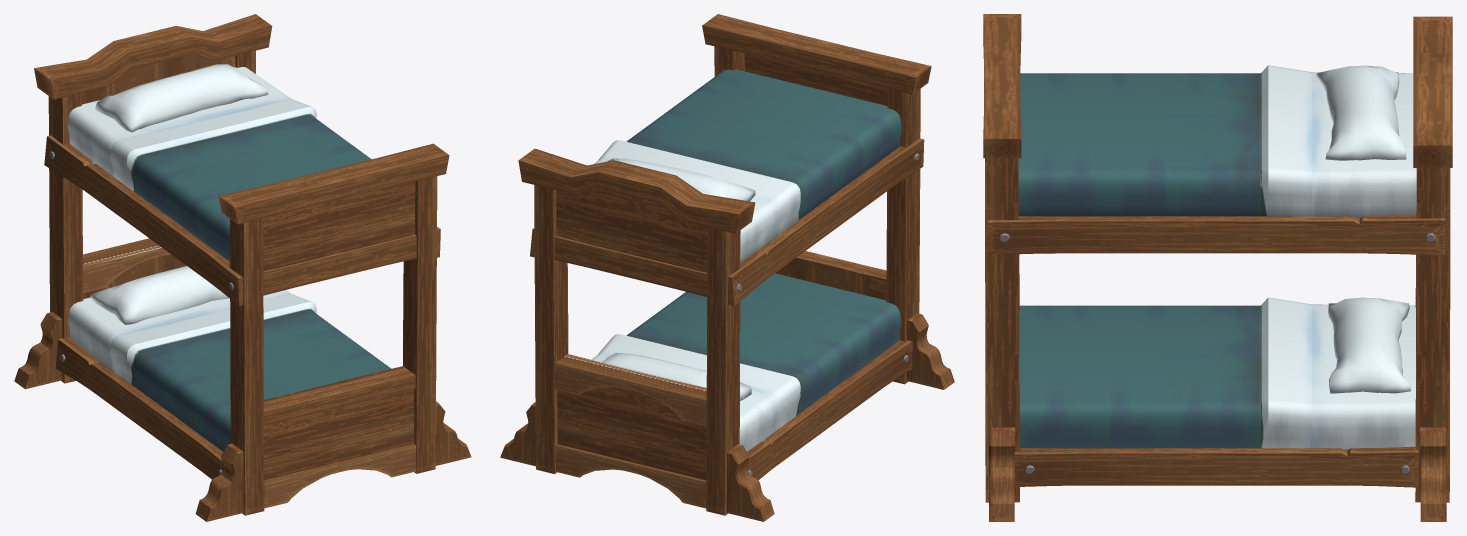
File: Bed_Bunk.fbx
3 views of the same model, side by side, from view 1: azimuth 30°, elevation 25°; view 2: azimuth 150°, elevation 25°; view 3: azimuth 270°, elevation 25° (orthographic). The views are drawn at different scales.
Parts seen in each view (by area): view 1: Bed_Bunk; view 2: Bed_Bunk; view 3: Bed_Bunk.
Part boxes in pixels (box(x1,y1,x2,y2)): Bed_Bunk: box(14, 14, 471, 521); Bed_Bunk: box(500, 14, 954, 521); Bed_Bunk: box(983, 14, 1452, 521).
Bounding box in the file's own units: 188 × 213 × 242.
